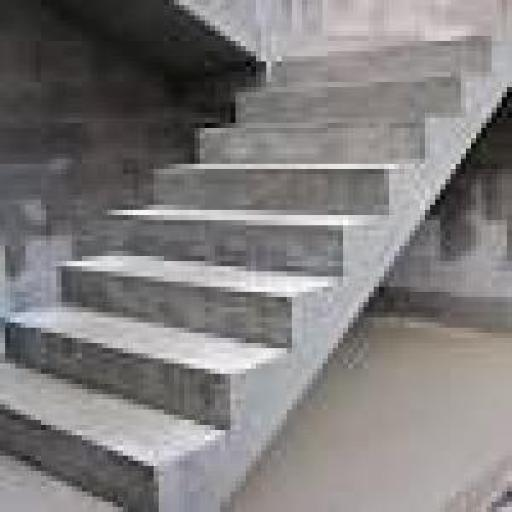sofa: (0, 38, 511, 511)
